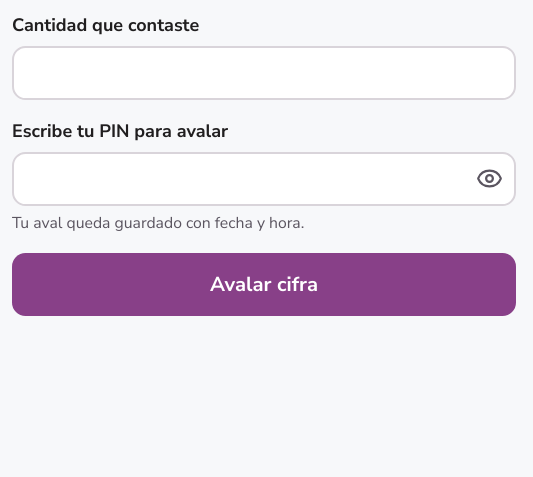
Test: AvalForm › muestra el error si el PIN es incorrecto
Type "1250" into the field labelled "Cantidad que contaste" at (264, 73), box [12, 46, 516, 100]
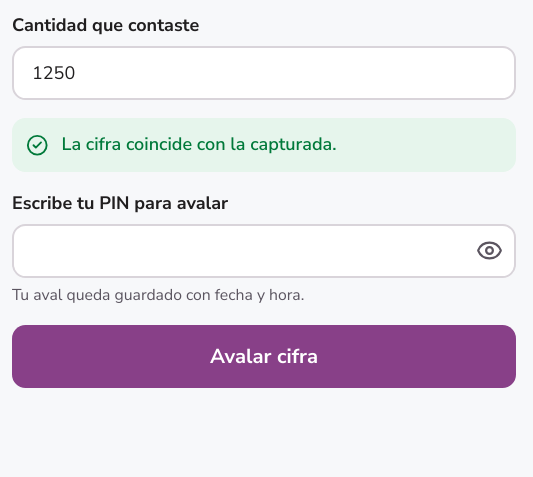
Type "000001" into the password field labelled "Escribe tu PIN para avalar" at (264, 250), box [12, 224, 516, 278]
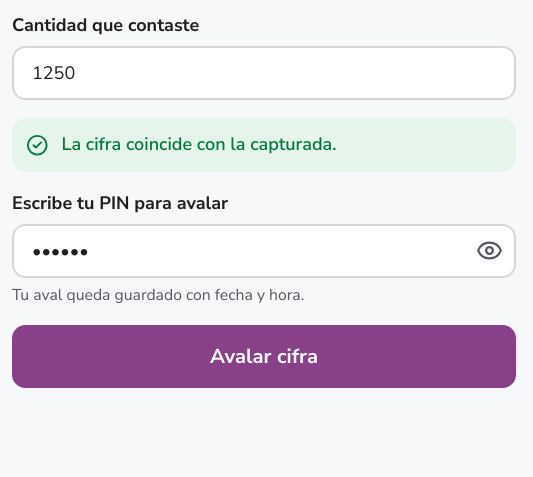
Click the button "Avalar cifra" at (264, 356), box [12, 325, 516, 388]
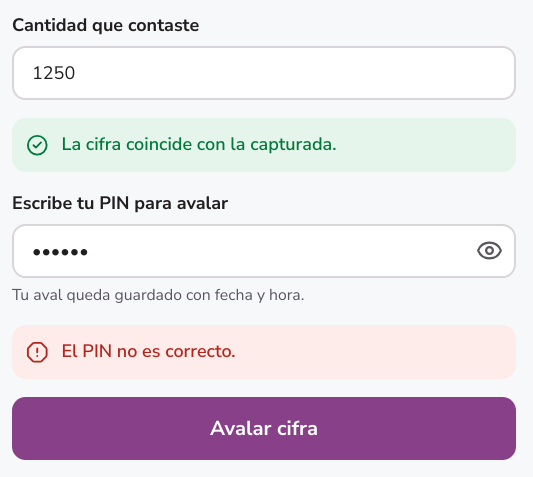
expect the text "El PIN no es correcto." is shown: met, box [62, 338, 236, 365]
